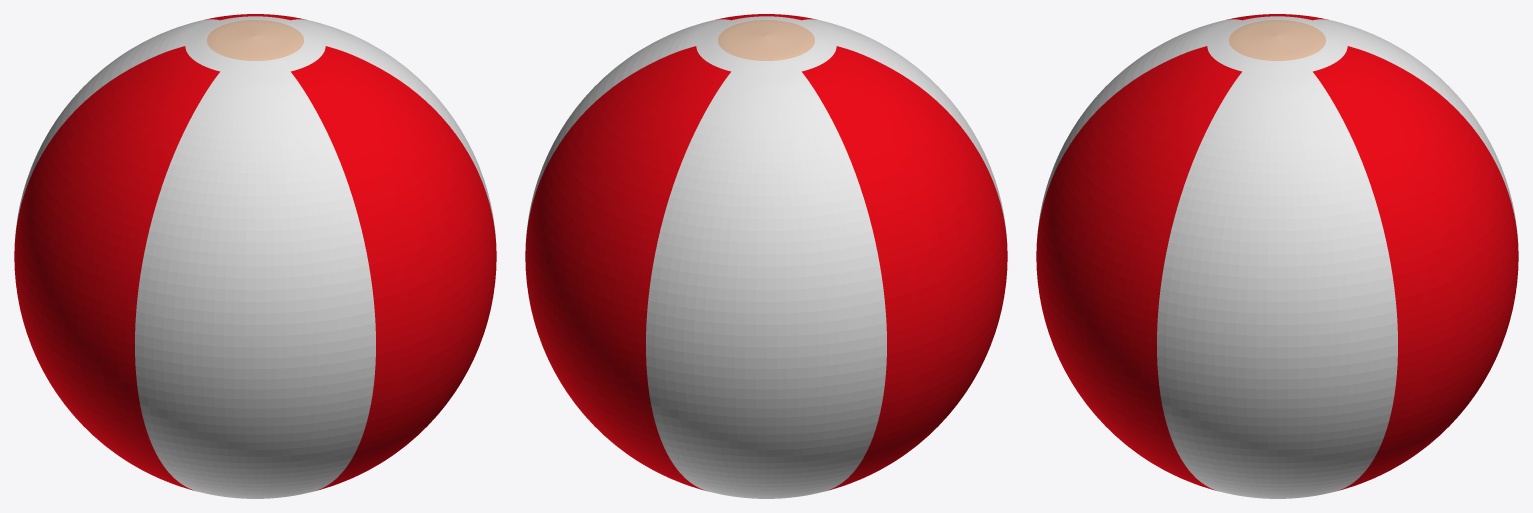
Rendered from beachBall_red.glb.
3 views of the same model, side by side, from view 1: azimuth 30°, elevation 25°; view 2: azimuth 150°, elevation 25°; view 3: azimuth 270°, elevation 25° (orthographic).
Parts seen in each view (by area): view 1: Sphere; view 2: Sphere; view 3: Sphere.
Part boxes in pixels (x1,y1,x2,y2): Sphere: [14, 14, 496, 498]; Sphere: [525, 14, 1007, 498]; Sphere: [1036, 14, 1518, 498].
Bounding box in the file's own units: 1.98 × 2 × 1.98.
